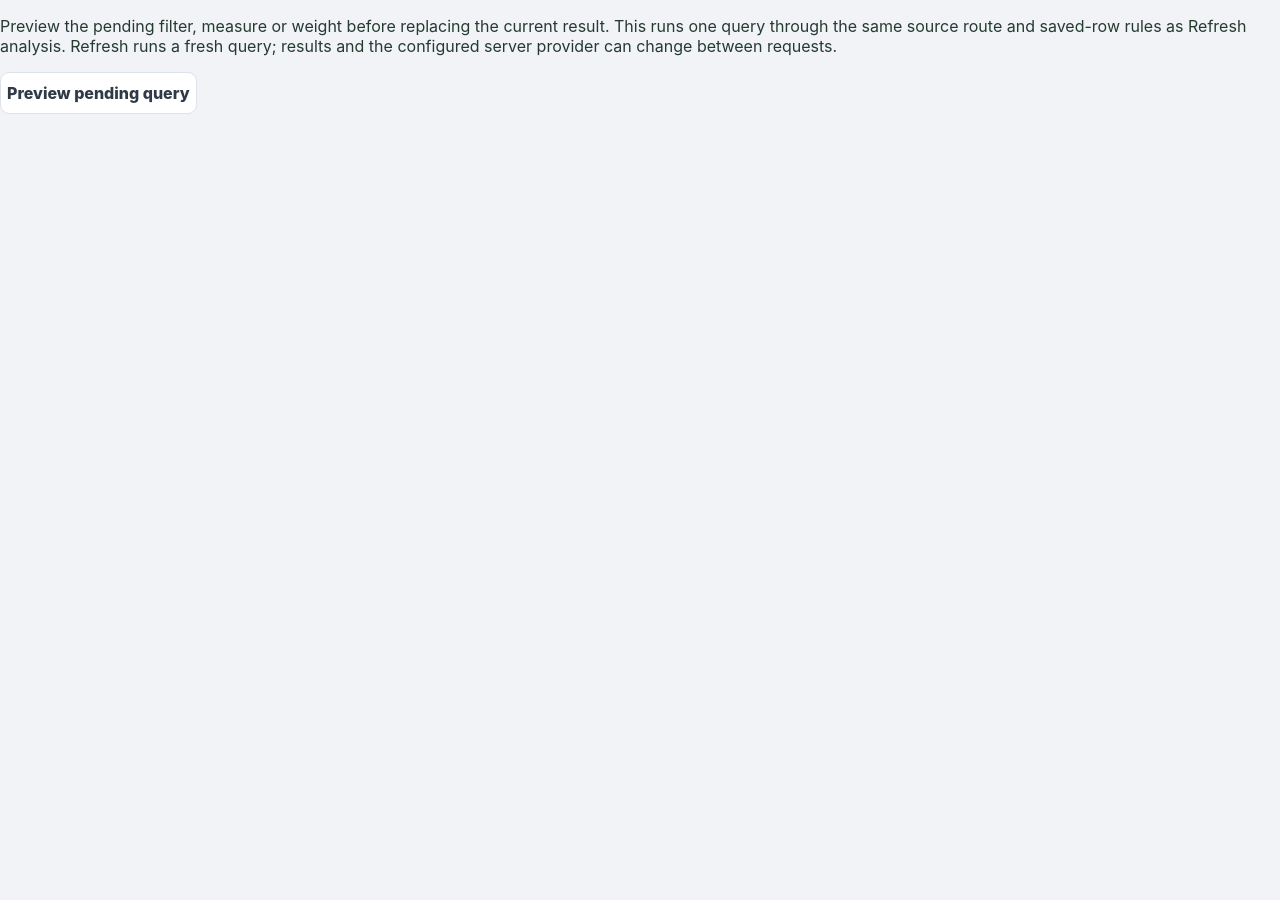
Test case: reviews pending weight and all values without updating any result or storage
Later steps or results of the test are not shown.
Click the button "Preview pending query" at (98,93), box [0,72,197,114]
(page scrolled)
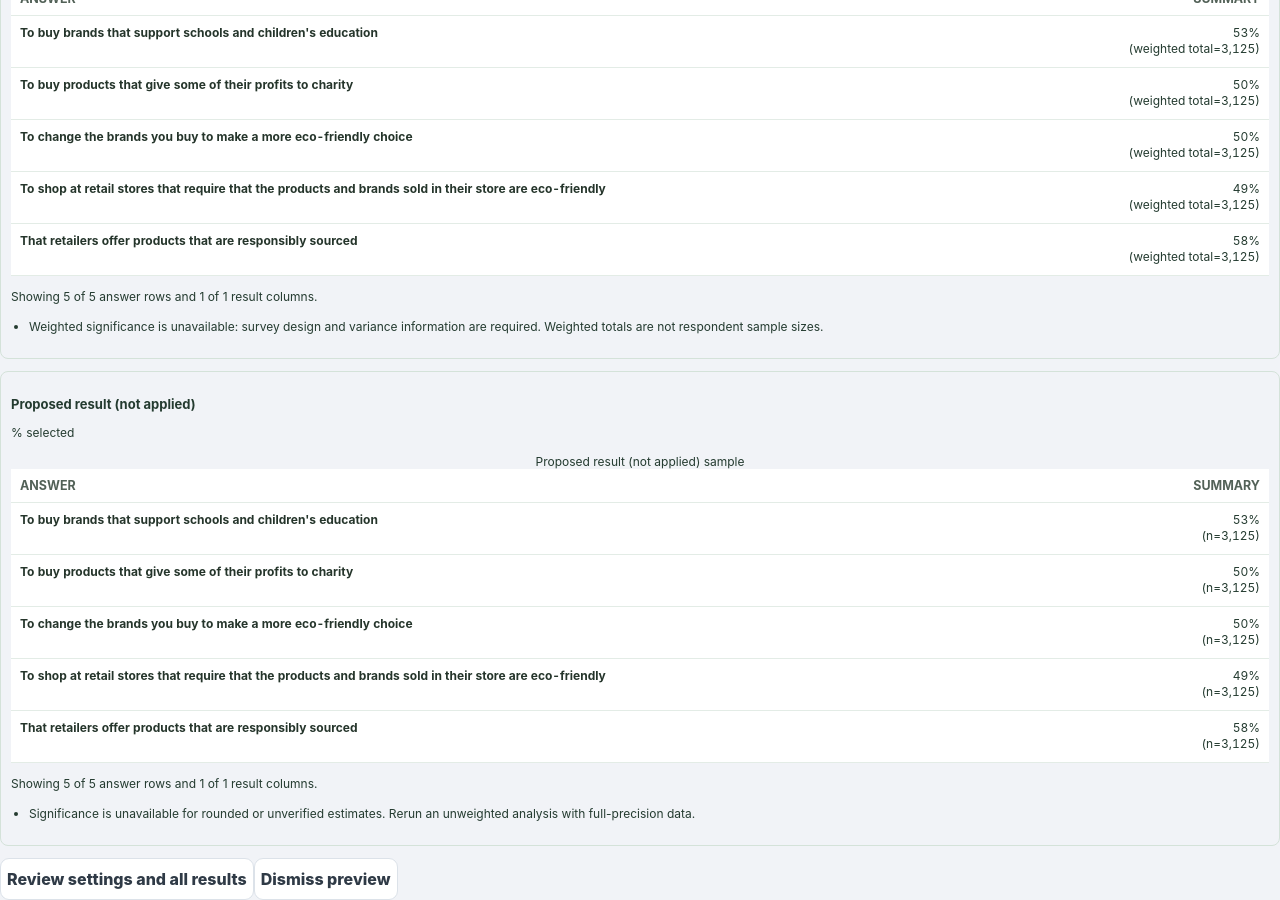
Check: the text "Unweighted" is shown, box [29,806,695,821]
Check: the button "Review settings and all results" is shown
Click the button "Review settings and all results" at (127,879), box [0,858,254,899]
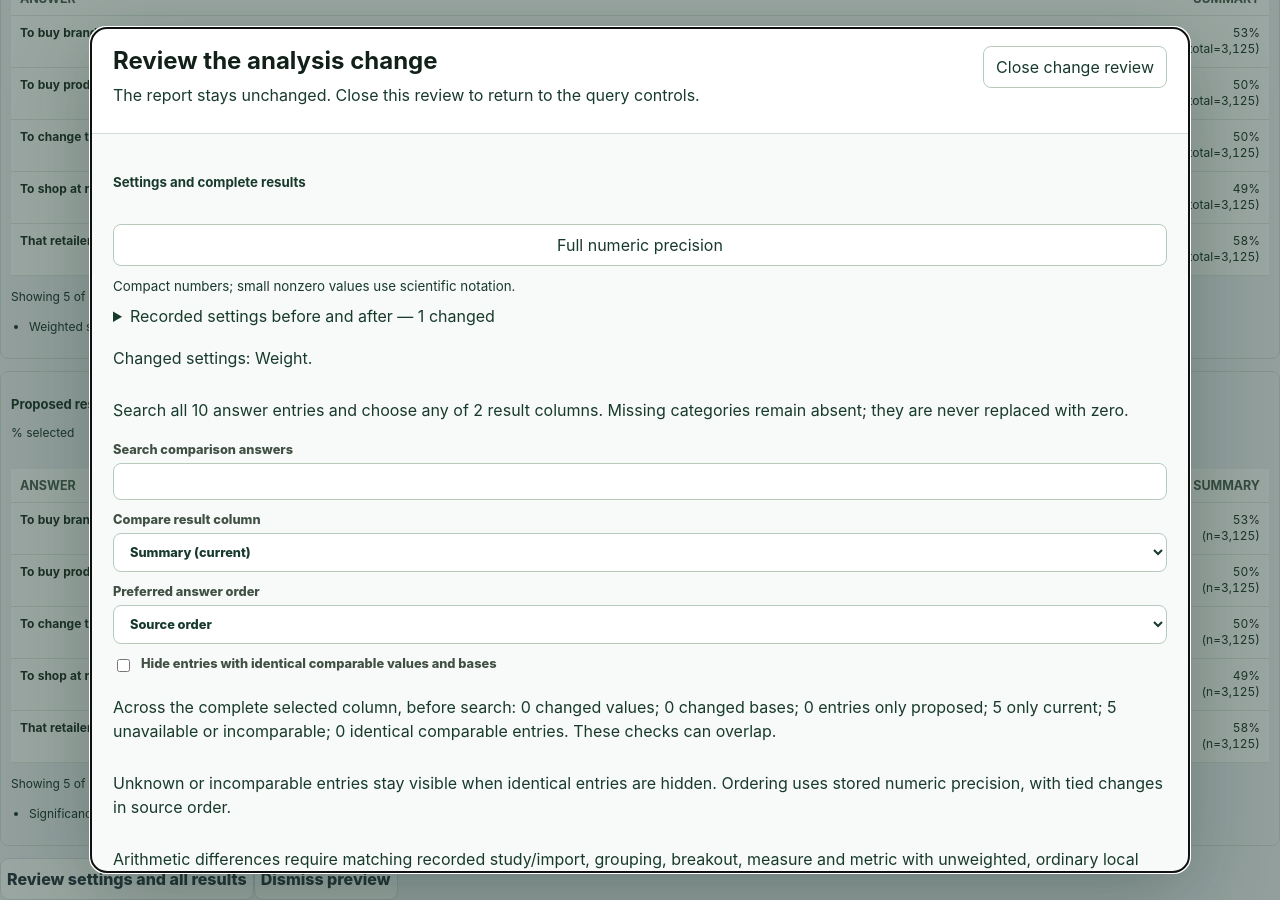
Check: the button "Close change review" is shown
Click the button "Close change review" at (1075,67), box [983,46,1167,88]
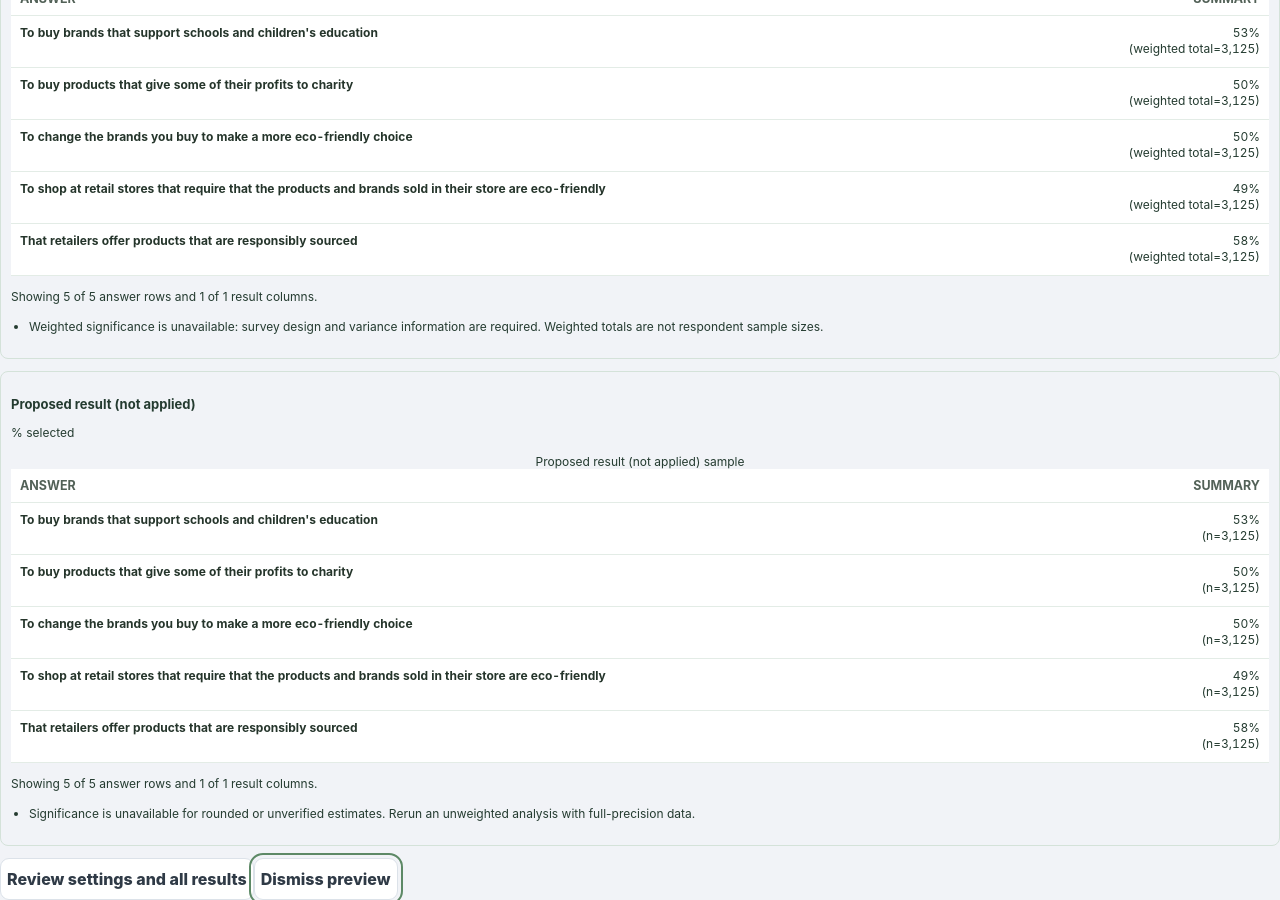
Check: the button "Dismiss preview" is shown, box [254,858,398,899]
